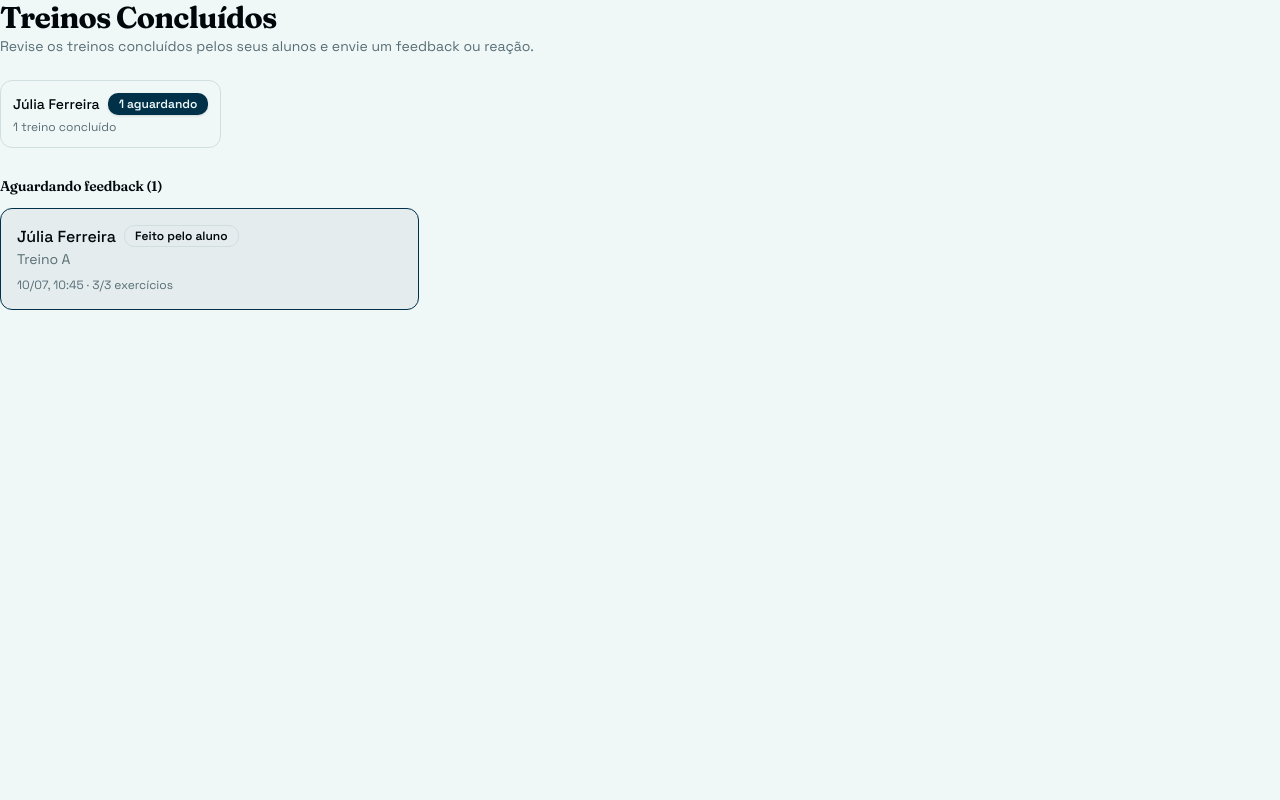
TreinosConcluidosPage › does not re-mark an already-viewed check-in
Click the button with aria-label "Júlia Ferreira — Treino A". click: (67, 236)
box: [0, 208, 419, 310]
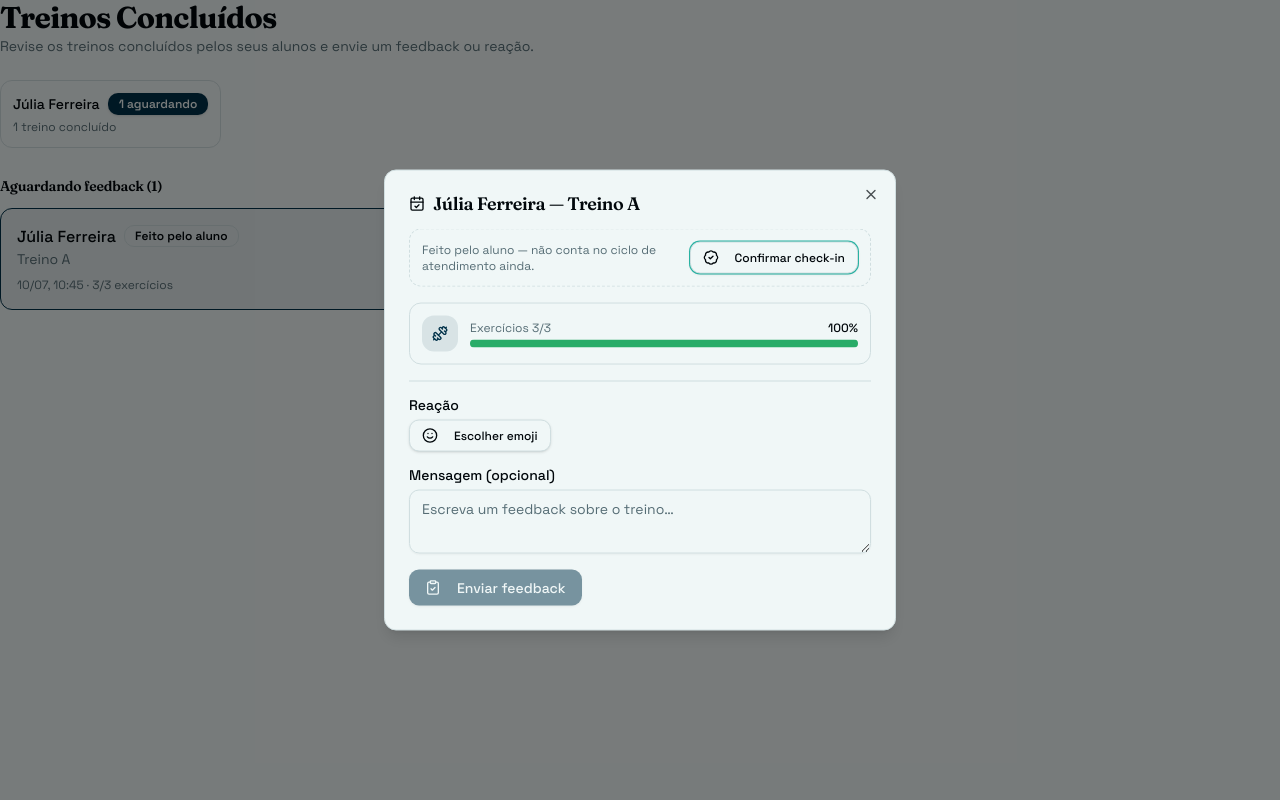
Expected: the dialog is shown, [384, 170, 896, 630]
